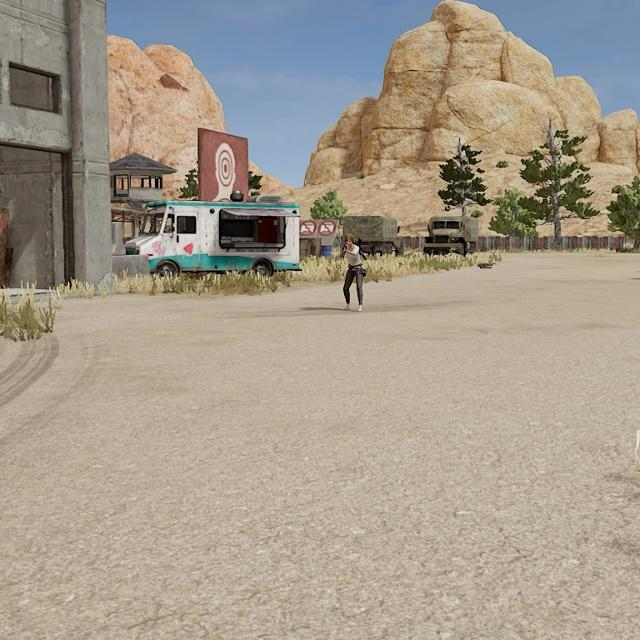head: (343, 232, 355, 248)
people: (338, 232, 366, 313)
